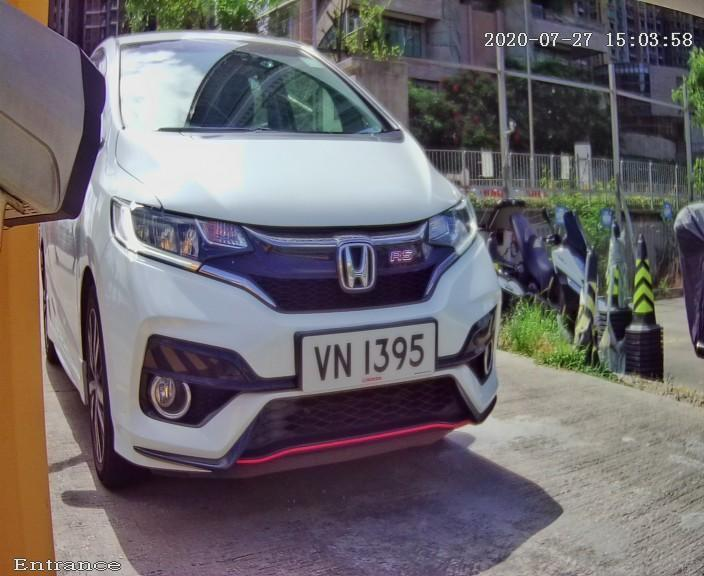privatecar: (48, 24, 535, 517)
